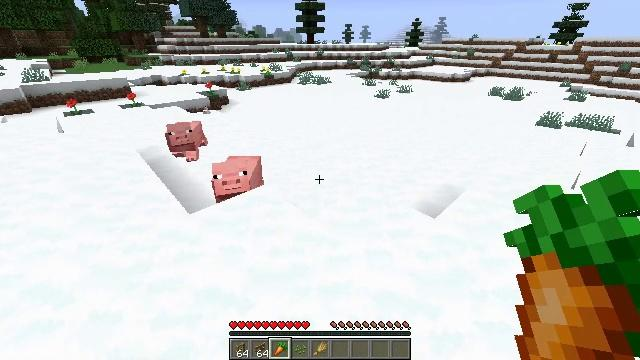pig: (210, 156, 263, 200), (165, 121, 208, 162)
